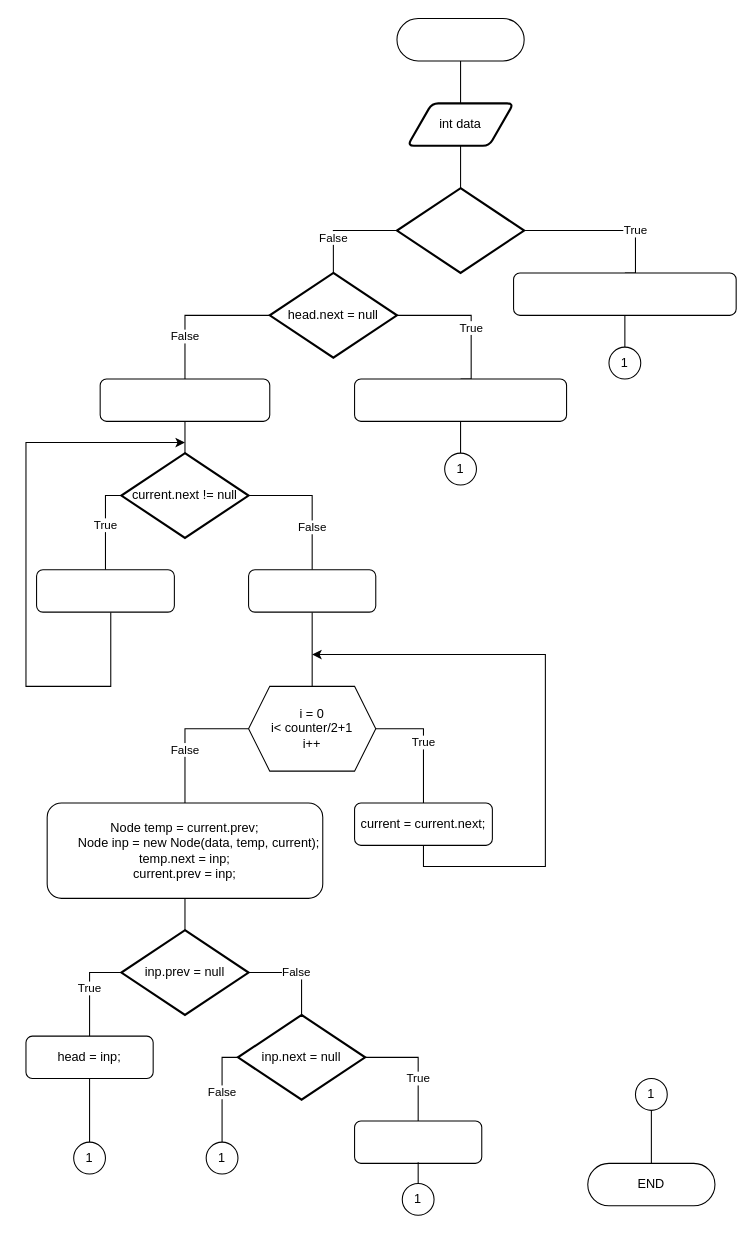
Some shapes in this 755 by 1234 pixel diagram are drawn without their labels. The shapes that lost their labels are listed below. From the top down, each one's centre as x and y in pixels, then its label:
At point (460, 39): "START".
At point (460, 230): "head = null".
At point (624, 293): "head = new Node(data, null, null); tail = head;".
At point (184, 399): "Node current = head; int counter = 0;".
At point (460, 399): "tail = new Node(data, head, null); head.next = tail;".
At point (105, 590): "counter++; current = current.next;".
At point (312, 590): "current = head;".
At point (418, 1141): "tail = inp;".
